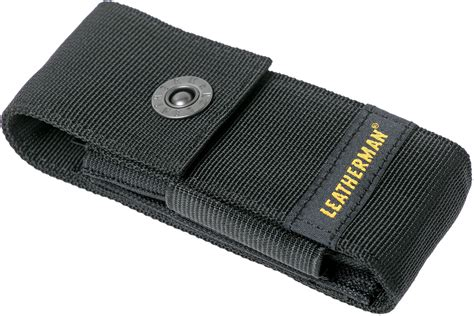nylon: (1, 1, 471, 312)
